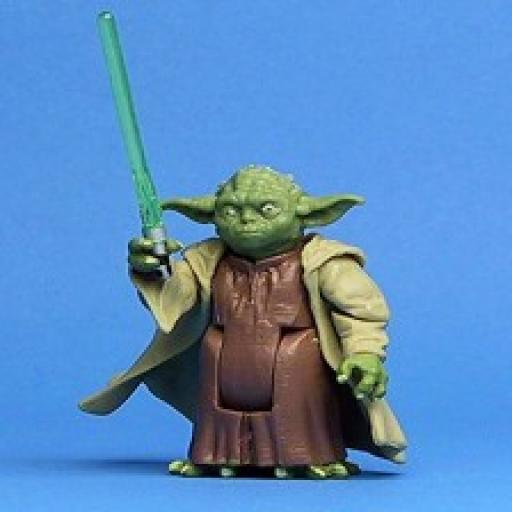lightsaber: (98, 13, 172, 277)
